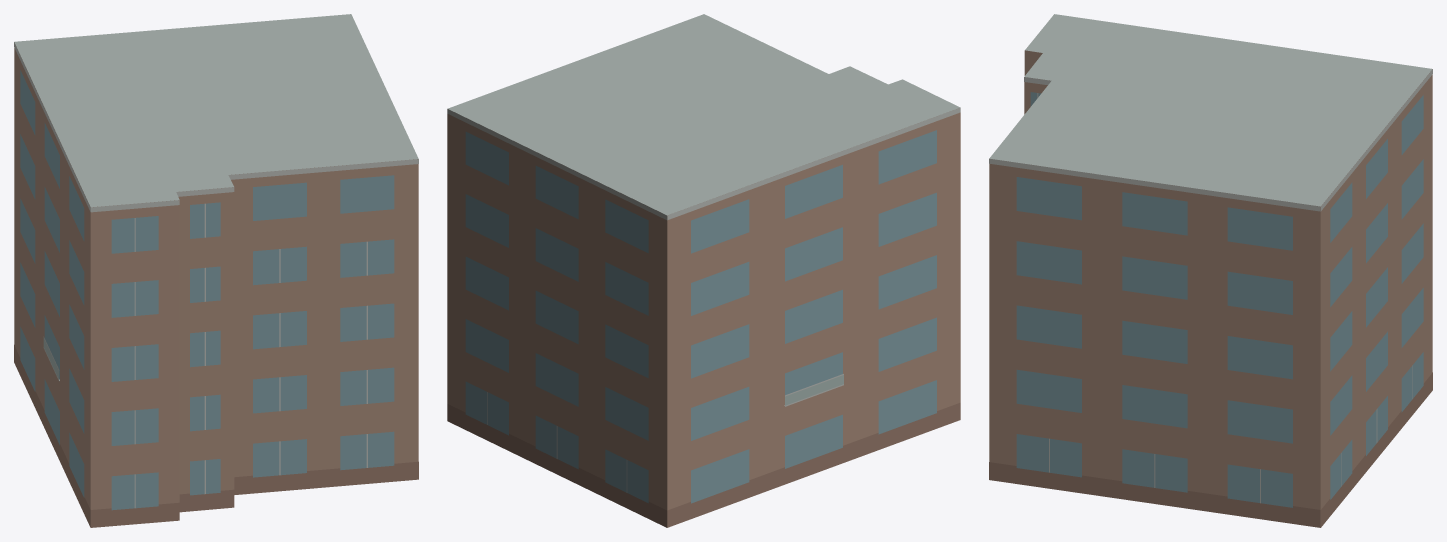
The model's file is survey-upis-32485625.glb.
3 views of the same model, side by side, from view 1: azimuth 30°, elevation 25°; view 2: azimuth 150°, elevation 25°; view 3: azimuth 270°, elevation 25° (orthographic). The views are drawn at different scales.
Visible parts, largest first — view 1: survey-upis-32485625.tmp; view 2: survey-upis-32485625.tmp; view 3: survey-upis-32485625.tmp.
Boxes of the visible parts, x1=… form: survey-upis-32485625.tmp: x1=14, y1=14, x2=418, y2=527; survey-upis-32485625.tmp: x1=447, y1=14, x2=960, y2=527; survey-upis-32485625.tmp: x1=989, y1=14, x2=1432, y2=527.
Size of the model in its own units: 19.93 by 15.5 by 19.4.
